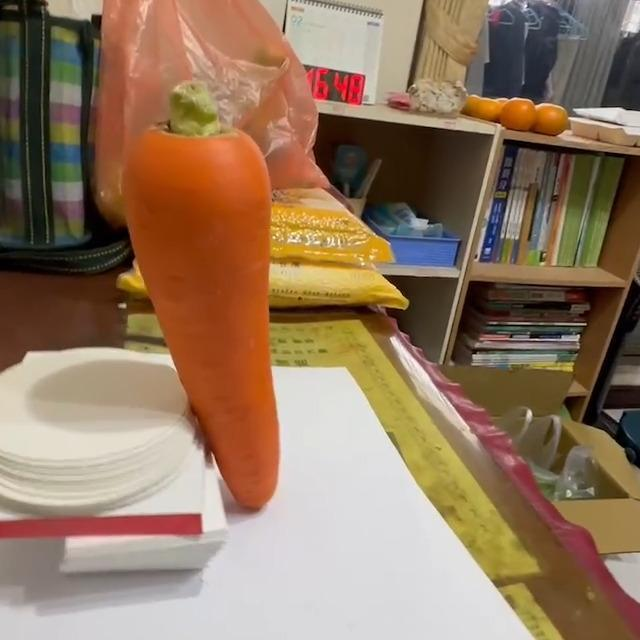carrot: (127, 78, 284, 513)
